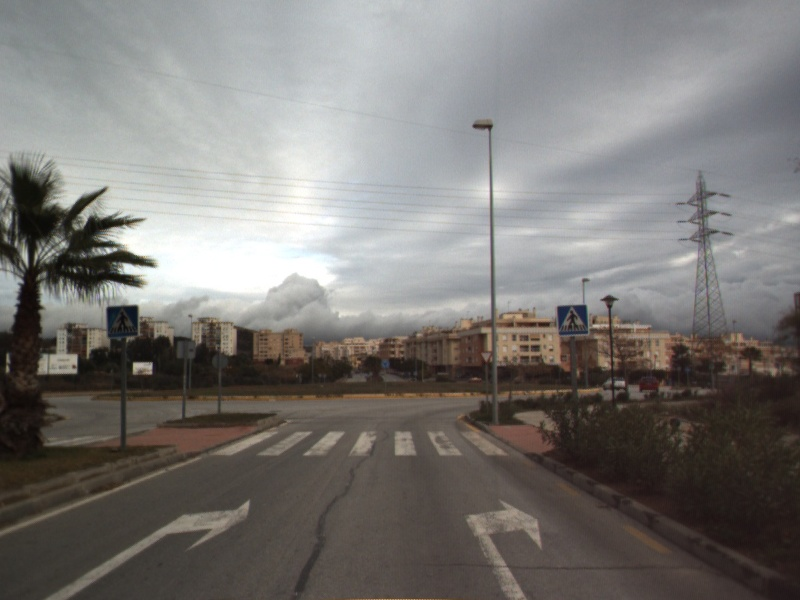RIGHT: (41, 497, 252, 600), (462, 497, 544, 600)
